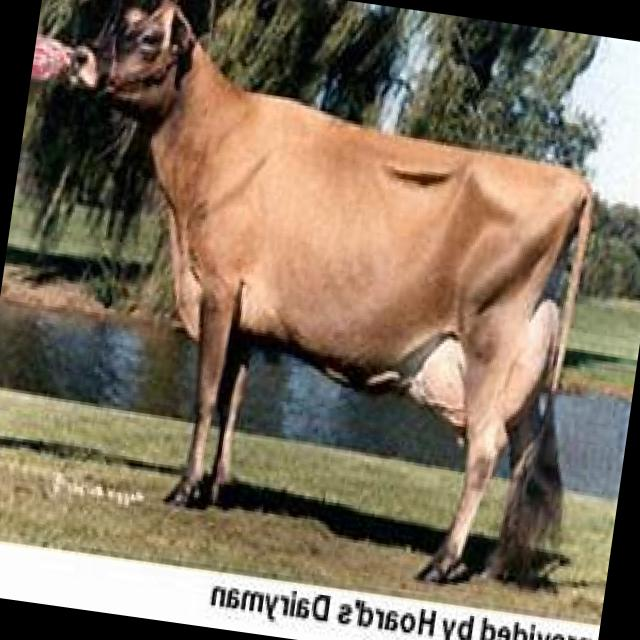animal: (0, 0, 630, 610)
